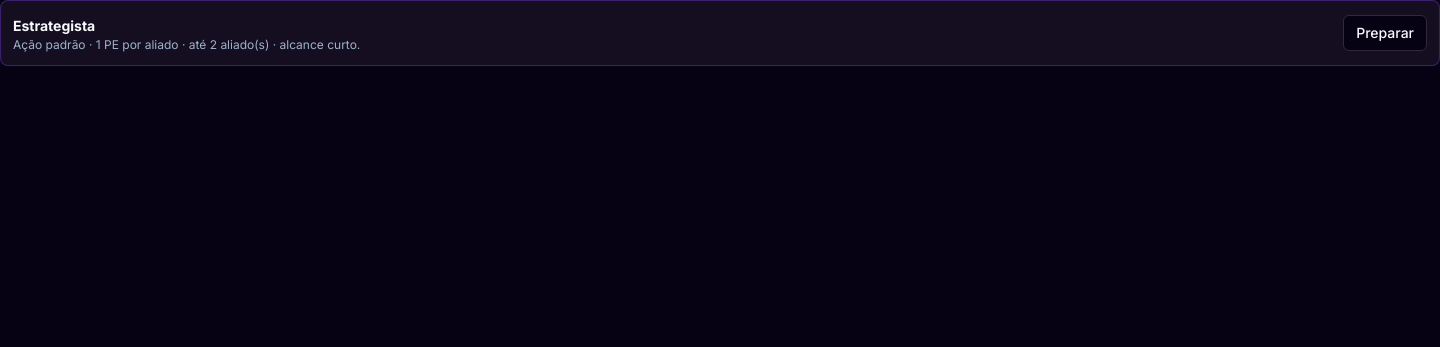
Test case: Estrategista › mostra custo por alvo e exige seleção, ação e alcance antes de cobrar
Later steps or results of the test are not shown.
Click the button "Preparar" at (1385, 33), box [1343,15,1427,51]
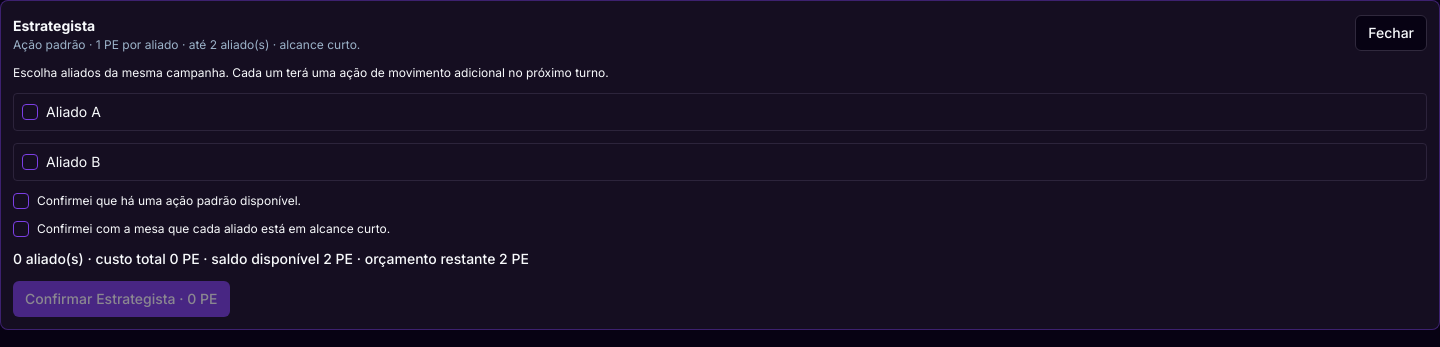
Check: the button "Confirmar Estrategista · 0 PE" is disabled, box [13,281,230,317]
Click the checkbox named "Direcionar Aliado A" at (30, 112), box [22,104,38,120]
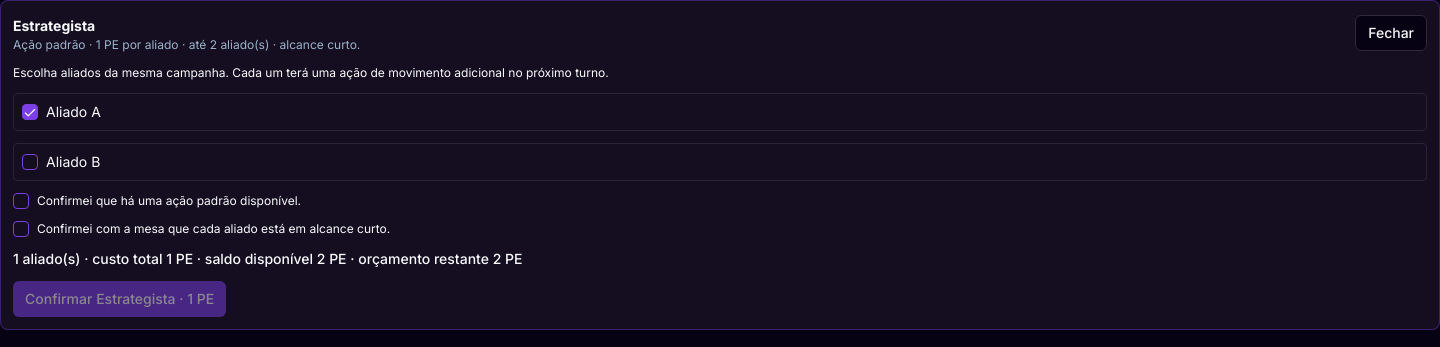
Click the checkbox named "Direcionar Aliado B" at (30, 162), box [22,154,38,170]
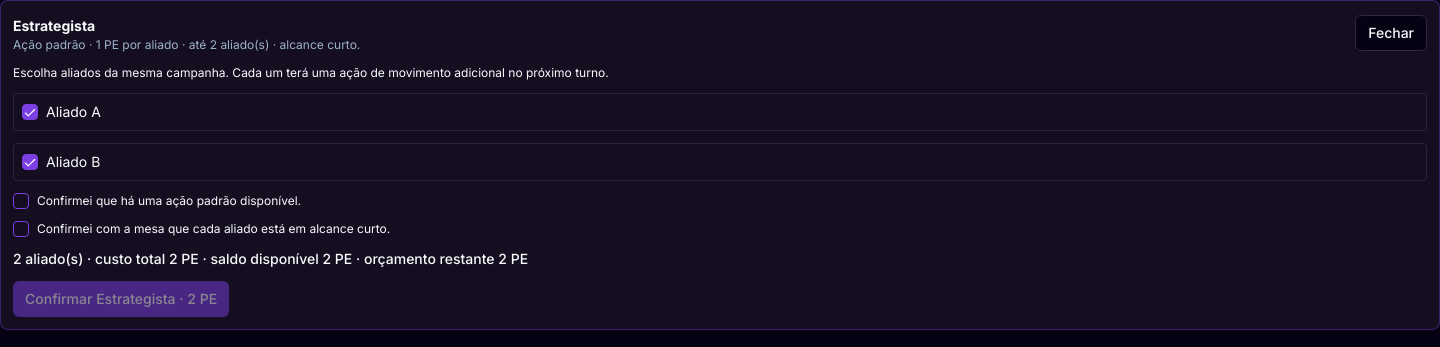
Check: the text "2 aliado(s) · custo total 2 PE" is shown, box [13,250,528,267]
